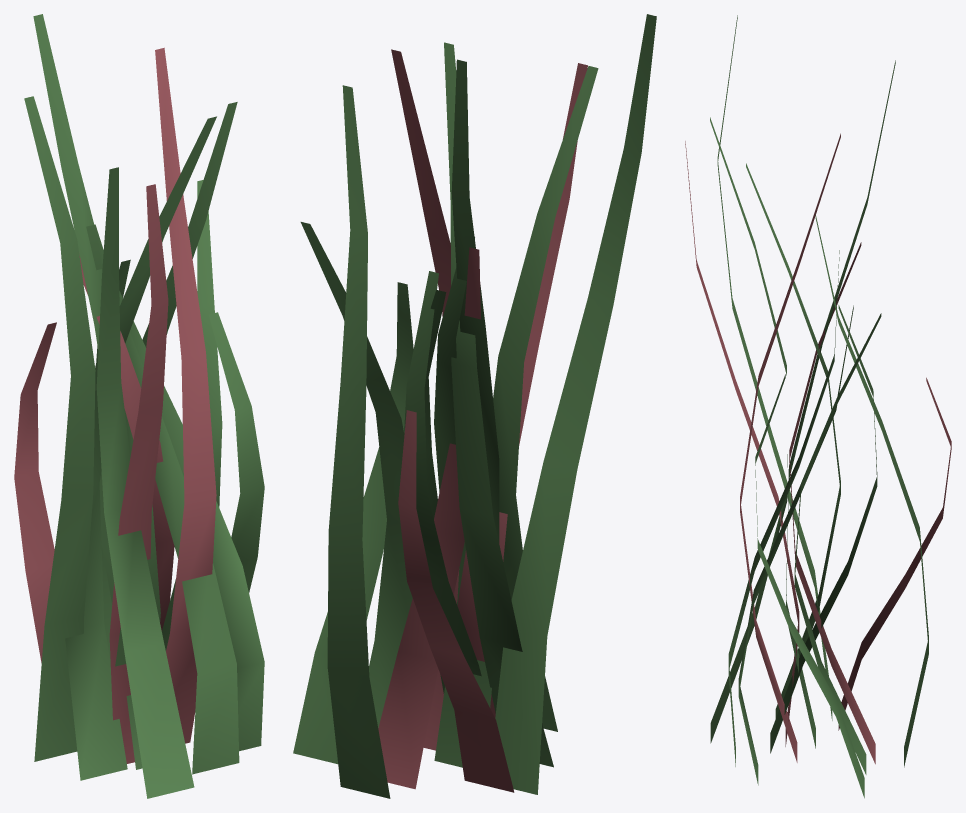
The model's file is weedtuft.glb.
3 renders of one model, left to right at view 1: azimuth 30°, elevation 25°; view 2: azimuth 150°, elevation 25°; view 3: azimuth 270°, elevation 25°, orthographic. The views are drawn at different scales.
Parts seen in each view (by area): view 1: boat_weedg, boat_weedr; view 2: boat_weedg, boat_weedr; view 3: boat_weedg, boat_weedr.
Boxes of the visible parts, x1,y1,x2,y2 form: boat_weedg: (24, 14, 264, 798); boat_weedr: (14, 47, 216, 763); boat_weedg: (293, 14, 656, 798); boat_weedr: (378, 49, 587, 792); boat_weedg: (710, 15, 928, 798); boat_weedr: (685, 133, 951, 764).
Bounding box in the file's own units: 0.4098 × 1.01 × 0.3707.
